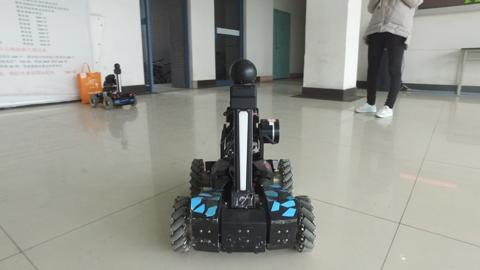bag: (74, 61, 103, 102)
chariot: (166, 58, 318, 254), (87, 61, 139, 111)
